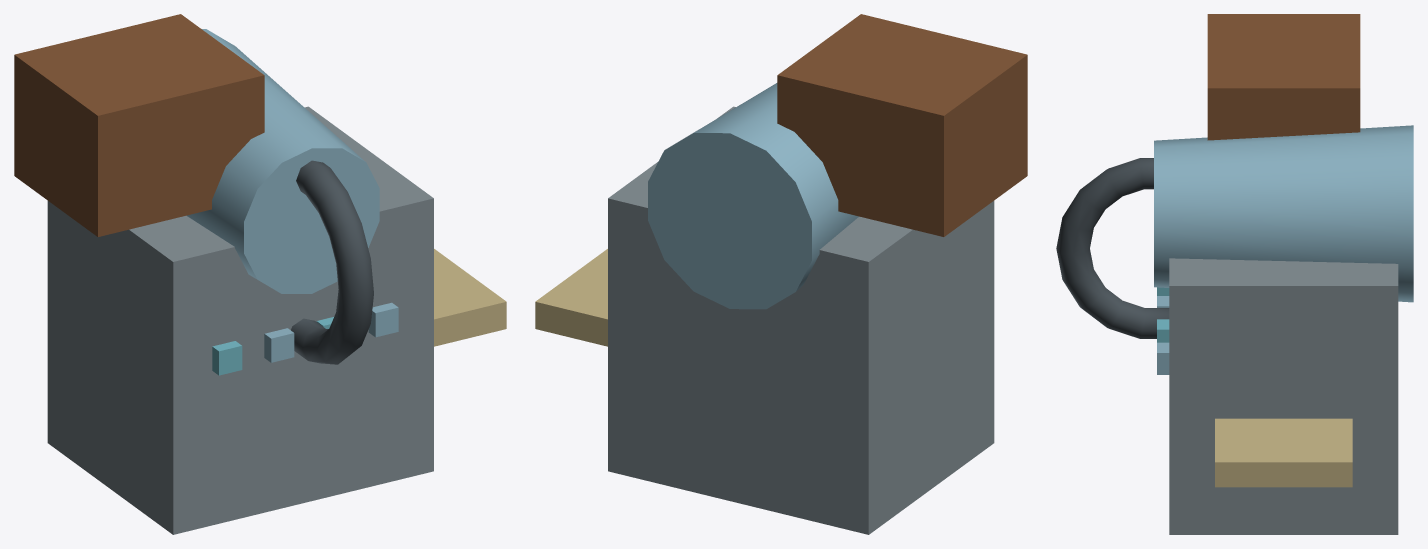
The model's file is cheese_press.glb.
3 renders of one model, left to right at view 1: azimuth 30°, elevation 25°; view 2: azimuth 150°, elevation 25°; view 3: azimuth 270°, elevation 25°, orthographic. The views are drawn at different scales.
Parts seen in each view (by area): view 1: machine_body, input_hopper, machine_core, wheel, output_tray, control_0, control_1, control_3; view 2: machine_body, input_hopper, machine_core, output_tray; view 3: machine_body, machine_core, input_hopper, output_tray, wheel, control_3.
Part boxes in pixels (box(x1,y1,x2,y2)): machine_body: box(47, 106, 433, 534); input_hopper: box(14, 14, 264, 236); machine_core: box(187, 29, 379, 293); wheel: box(291, 160, 373, 364); output_tray: box(434, 249, 506, 346); control_0: box(212, 341, 242, 375); control_1: box(264, 328, 294, 362); control_3: box(368, 302, 398, 337); machine_body: box(608, 106, 994, 534); input_hopper: box(777, 14, 1027, 236); machine_core: box(648, 83, 858, 309); output_tray: box(535, 249, 607, 346); machine_body: box(1169, 258, 1398, 534); machine_core: box(1154, 125, 1413, 302); input_hopper: box(1207, 14, 1360, 140); output_tray: box(1215, 418, 1352, 487); wheel: box(1056, 158, 1169, 338); control_3: box(1157, 342, 1169, 374).
Size of what is drawn, in the model's own units: 2.85 by 2.75 by 2.34.
